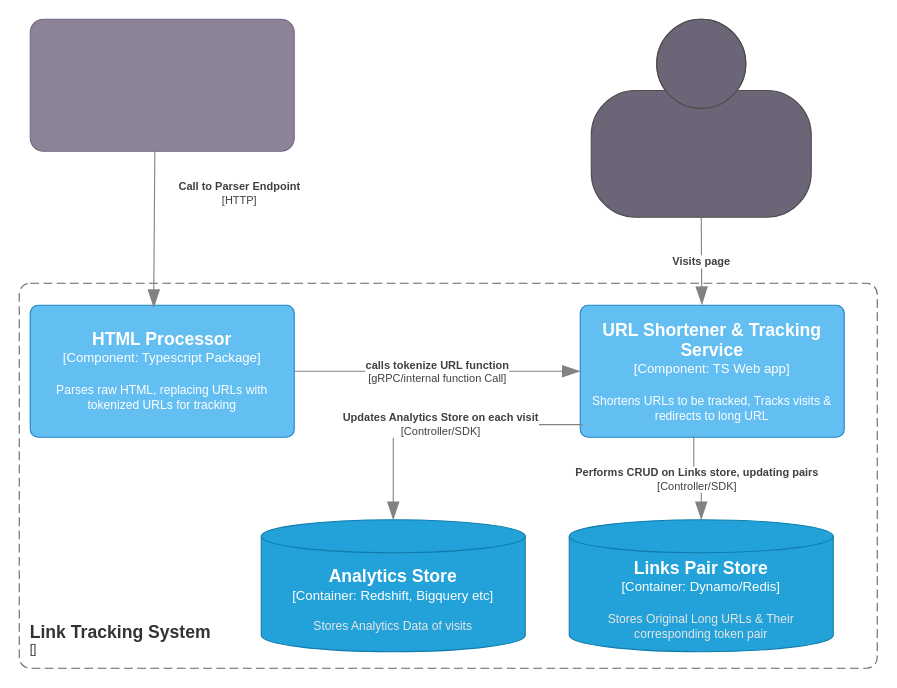
Image size: 897x688. Some labels were removed from this diagram. Each missing label, with the centre of its shape:
HTML Parser Client [System] External Application/Ops User: point (161, 84)
Visitor to website [Person] Person clicking tracking URL: point (700, 117)
